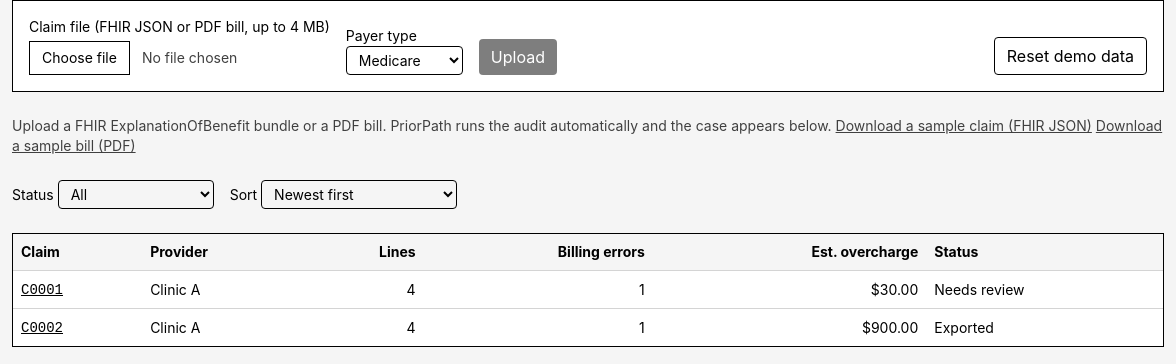
it: filters by status
Expected: the link "C0001" is shown, [21,282,63,298]
Select "Exported" in the dropdown labelled "Status": (136, 194) [58,180,214,209]
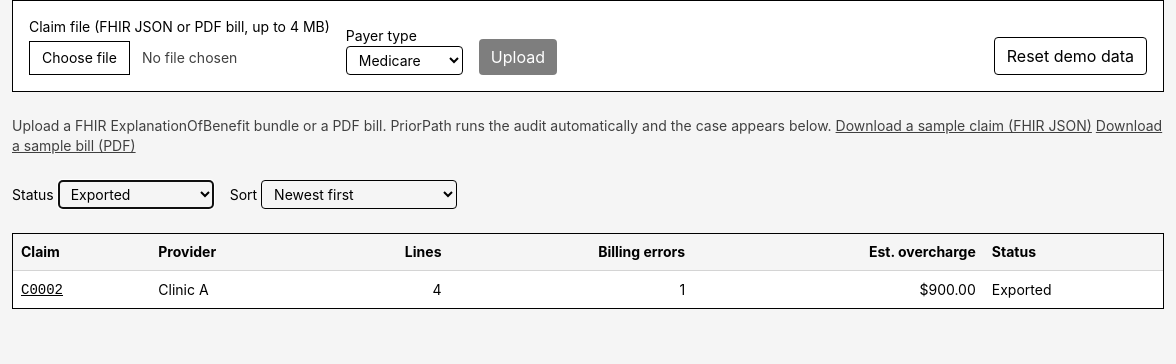
Expected: the link "C0002" is shown, [21,282,63,298]
Expected: the link "C0001" is gone
